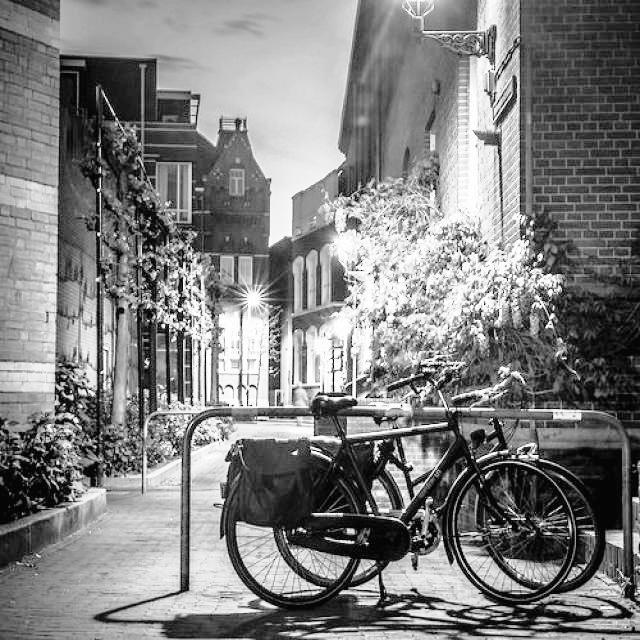Bicycle: (230, 411, 621, 636), (313, 338, 626, 526)
Tree: (77, 108, 169, 441)
